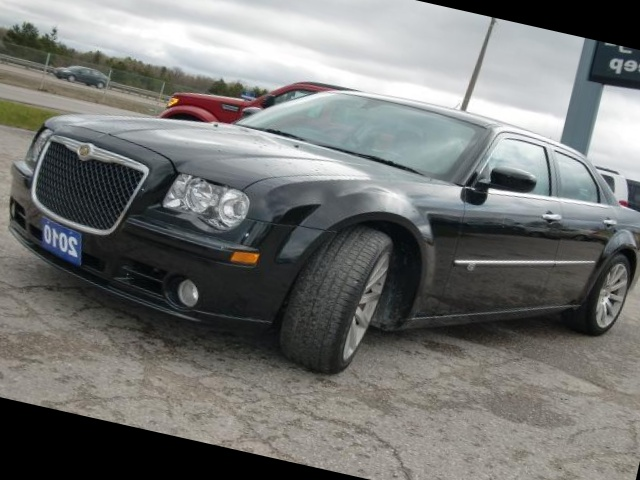car: (0, 8, 640, 448)
